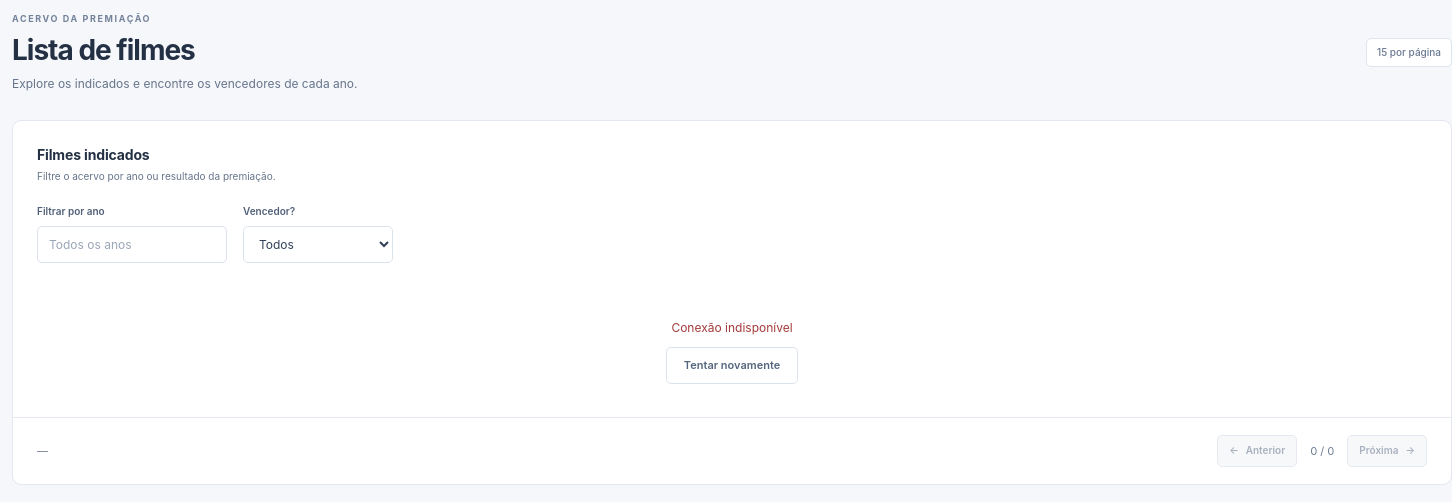
Test case: lista de filmes › mostra erro e recupera a lista ao repetir
Expected: the message shows "Conexão indisponível", [671, 320, 793, 335]
Click the button "Tentar novamente": (732, 365) [666, 347, 798, 384]
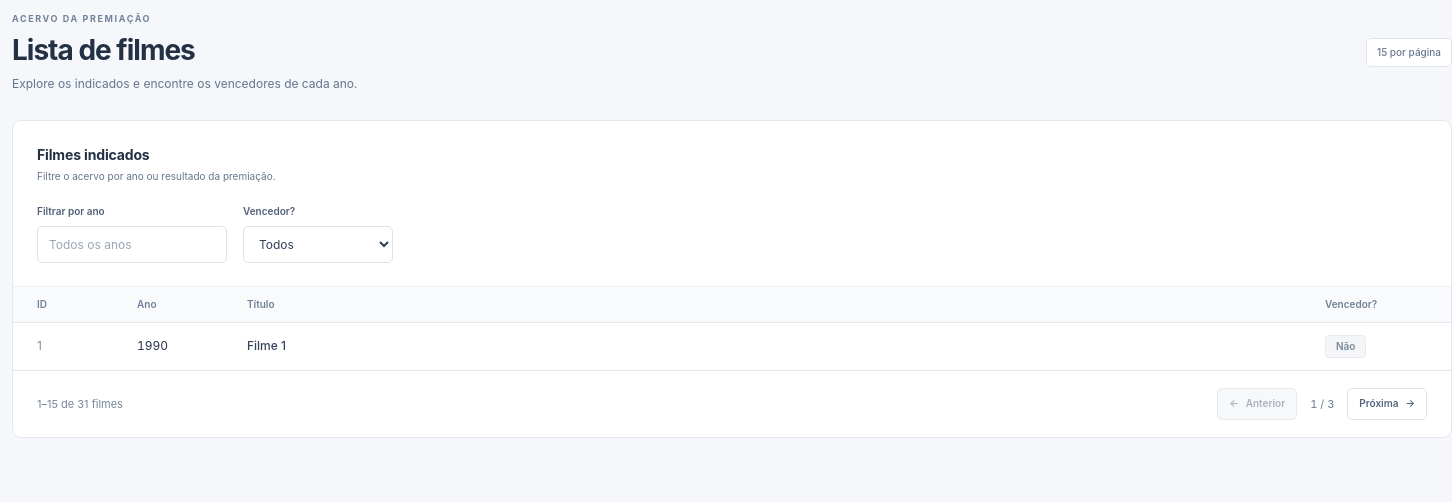
Expected: the text "Filme 1" is shown, [223, 323, 1301, 370]
